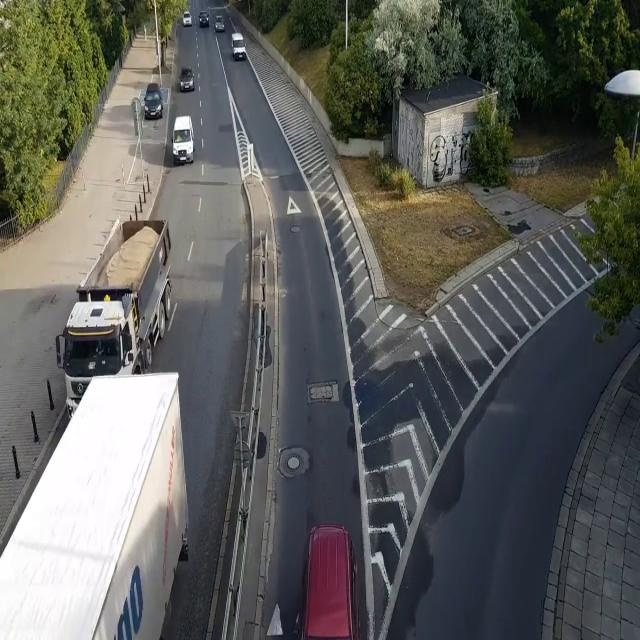car: (294, 519, 361, 640), (143, 83, 164, 119), (179, 65, 195, 93), (198, 10, 210, 28), (214, 15, 225, 32), (182, 11, 192, 26)
truck: (1, 373, 190, 640), (55, 217, 173, 422)
van: (172, 115, 195, 166), (230, 32, 247, 64)
